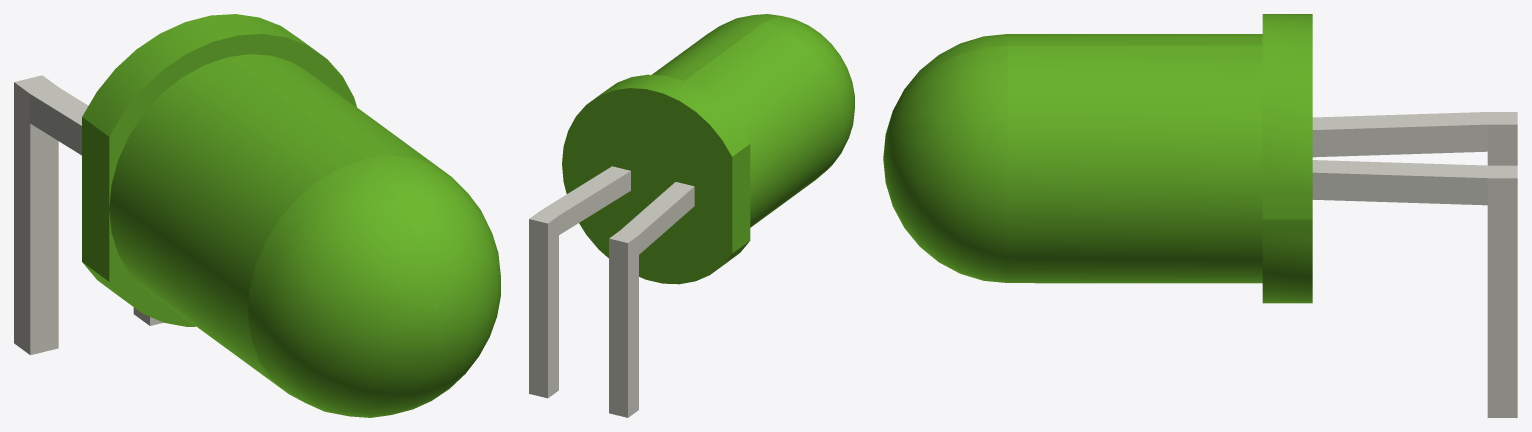
File: kc-led_d5.0mm_horizontal_o3.81mm_z3.0mm.glb
3 views of the same model, side by side, from view 1: azimuth 30°, elevation 25°; view 2: azimuth 150°, elevation 25°; view 3: azimuth 270°, elevation 25° (orthographic). The views are drawn at different scales.
Visible parts, largest first — view 1: 0.16666666666666666_0.4166666666666667_0_0, 0.6666666666666666_0.6666666666666666_0.5833333333333334_0.8; view 2: 0.16666666666666666_0.4166666666666667_0_0, 0.6666666666666666_0.6666666666666666_0.5833333333333334_0.8; view 3: 0.16666666666666666_0.4166666666666667_0_0, 0.6666666666666666_0.6666666666666666_0.5833333333333334_0.8.
Boxes of the visible parts, <box> form: 0.16666666666666666_0.4166666666666667_0_0: <box>82,14,500,417</box>; 0.6666666666666666_0.6666666666666666_0.5833333333333334_0.8: <box>14,75,163,355</box>; 0.16666666666666666_0.4166666666666667_0_0: <box>562,14,854,284</box>; 0.6666666666666666_0.6666666666666666_0.5833333333333334_0.8: <box>529,166,694,417</box>; 0.16666666666666666_0.4166666666666667_0_0: <box>883,14,1312,303</box>; 0.6666666666666666_0.6666666666666666_0.5833333333333334_0.8: <box>1312,112,1517,417</box>.
Size of the model in its own units: 0.54 by 0.7891 by 1.27.
